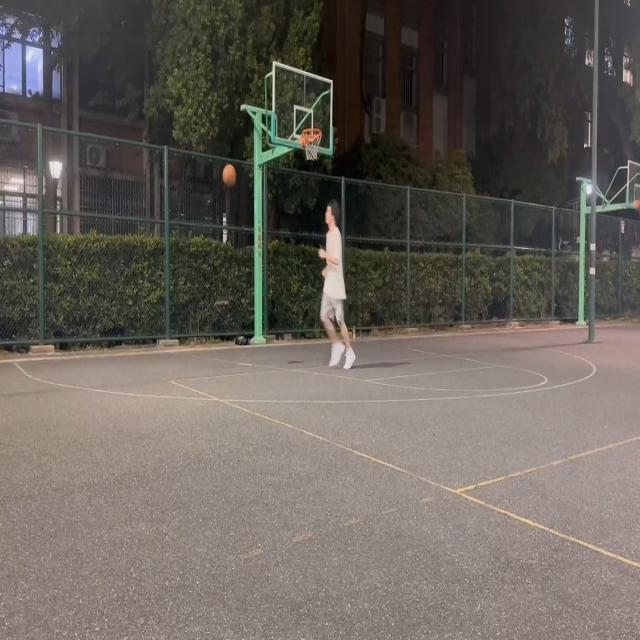basketball: (302, 128, 322, 162)
rim: (222, 163, 236, 187)
